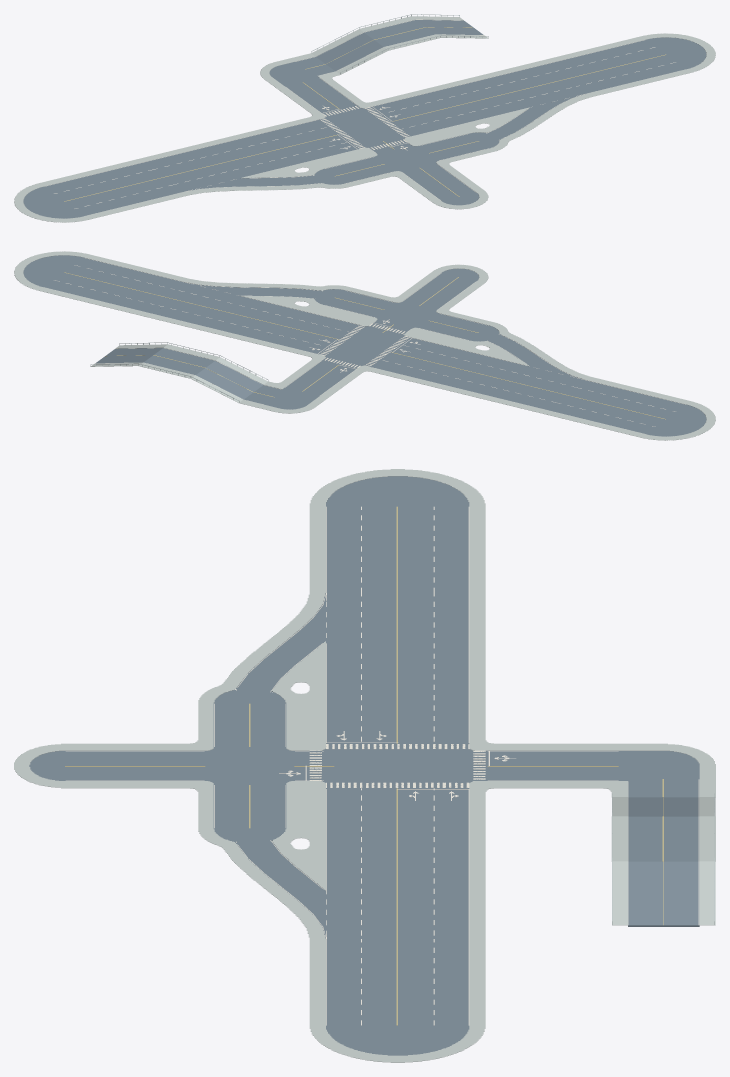
Rendered from network-w88-s39.glb.
3 renders of one model, top to bottom at view 1: azimuth 30°, elevation 25°; view 2: azimuth 150°, elevation 25°; view 3: azimuth 270°, elevation 25°, orthographic. The views are drawn at different scales.
Parts seen in each view (by area): view 1: Road_surface, Sidewalks, Lane_markings, Ramp_surface, Crosswalks, Bridge_railings; view 2: Road_surface, Sidewalks, Lane_markings, Ramp_surface, Crosswalks, Bridge_railings; view 3: Road_surface, Sidewalks, Ramp_surface, Lane_markings, Crosswalks.
Part boxes in pixels (x1,y1,x2,y2): Road_surface: (23,20,706,218); Sidewalks: (14,16,715,222); Lane_markings: (45,19,675,213); Ramp_surface: (316,20,483,71); Crosswalks: (319,106,410,150); Bridge_railings: (311,14,488,74); Road_surface: (23,255,706,436); Sidewalks: (14,251,715,440); Lane_markings: (54,258,685,429); Ramp_surface: (96,348,262,399); Crosswalks: (319,323,410,368); Bridge_railings: (90,342,268,402); Road_surface: (29,476,699,1055); Sidewalks: (14,469,715,1062); Ramp_surface: (628,797,699,926); Lane_markings: (65,506,699,1025); Crosswalks: (309,744,485,787).
Bounding box in the file's own units: 343 × 7.51 × 172.
